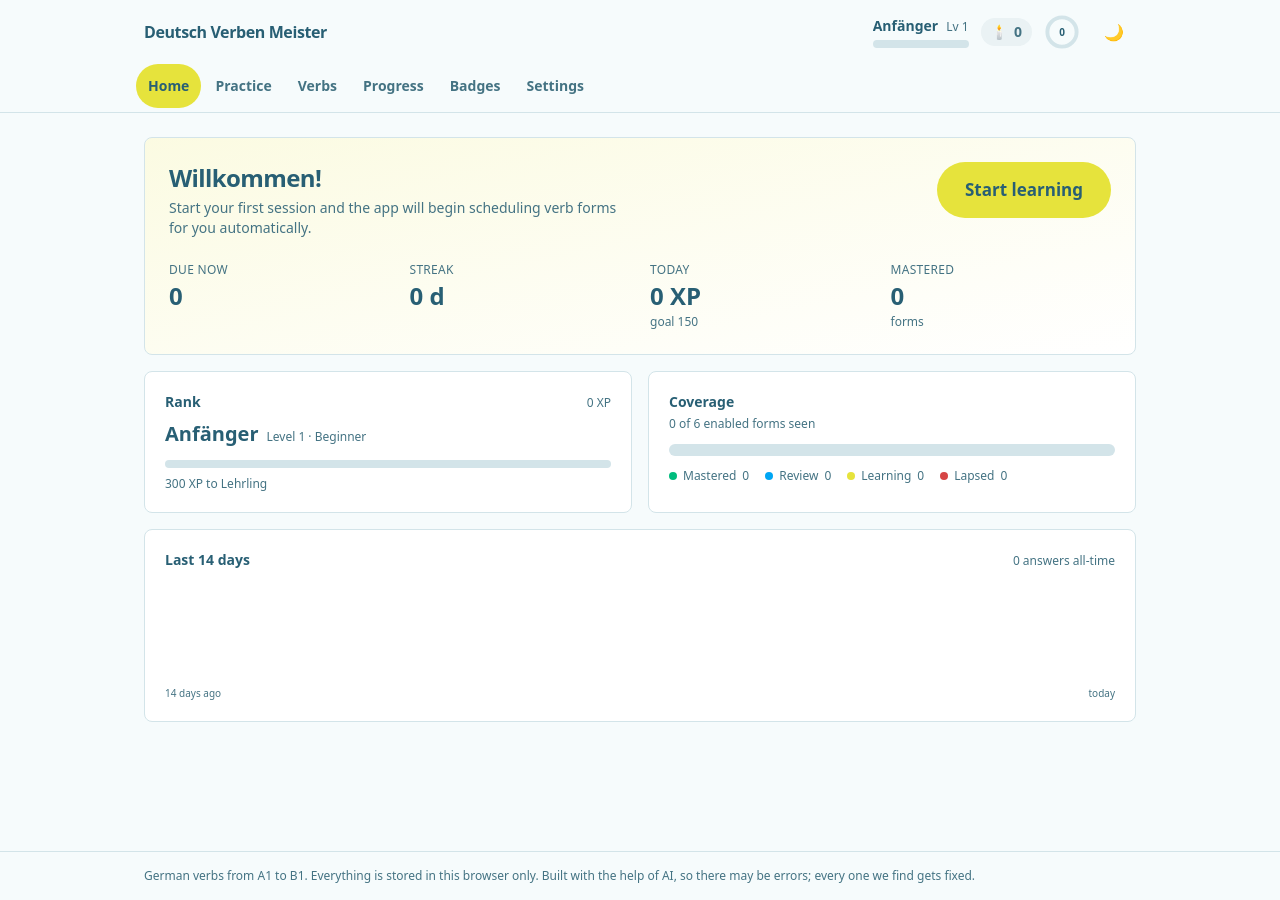
Test: settings drive practice › reflects a disabled category in the practice summary
The width and height of the screenshot is (1280, 900).
expect the heading "Willkommen!" is shown: met, box [169, 161, 321, 194]
Step 1. Click the link "Practice" → (244, 86), box [215, 76, 272, 95]
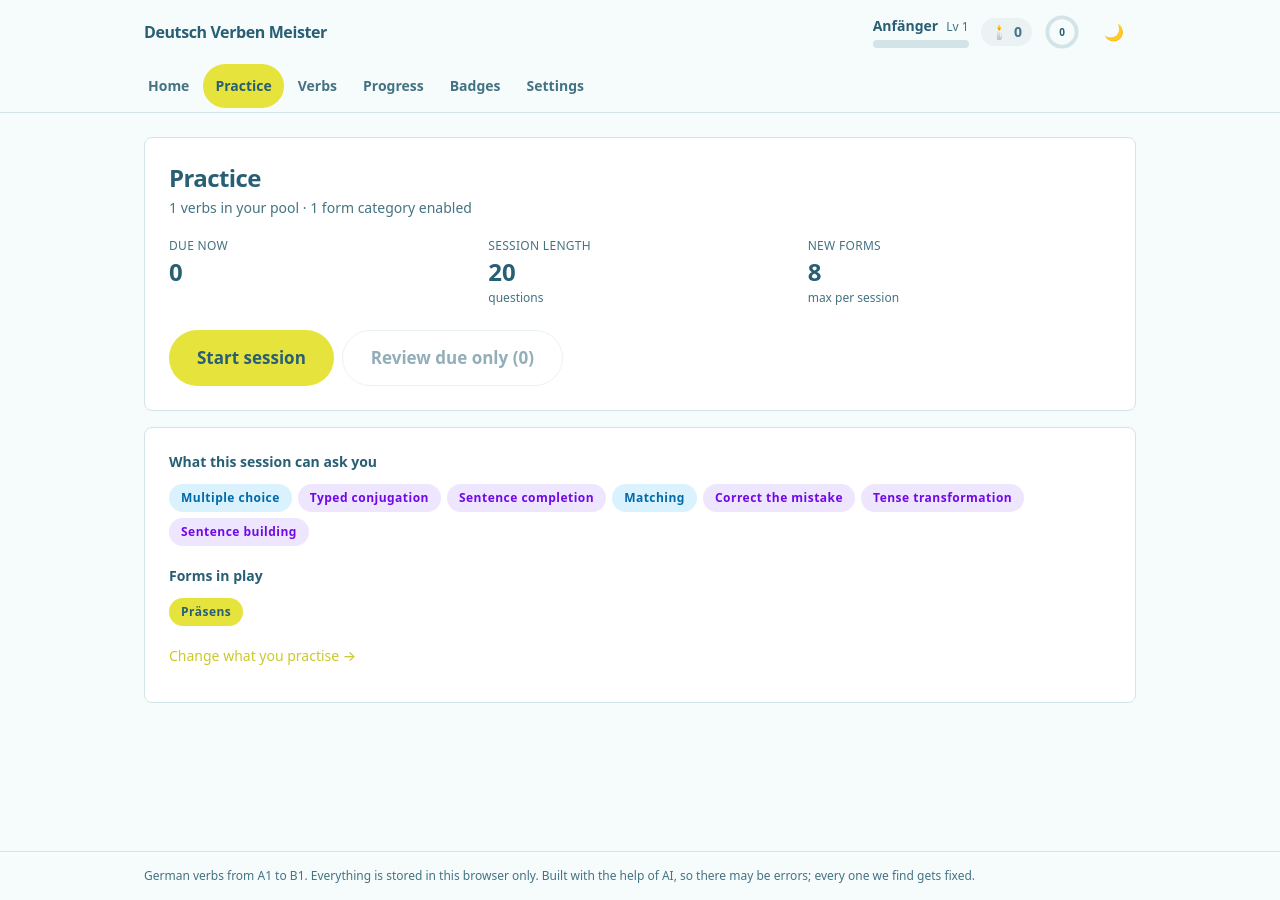
expect the heading "Practice" is shown: met, box [169, 161, 261, 194]
expect the text "1 verbs in your pool · 1 form category enabled" is shown: met, box [169, 198, 472, 217]
expect the text "Präsens" is shown: met, box [169, 598, 243, 626]
